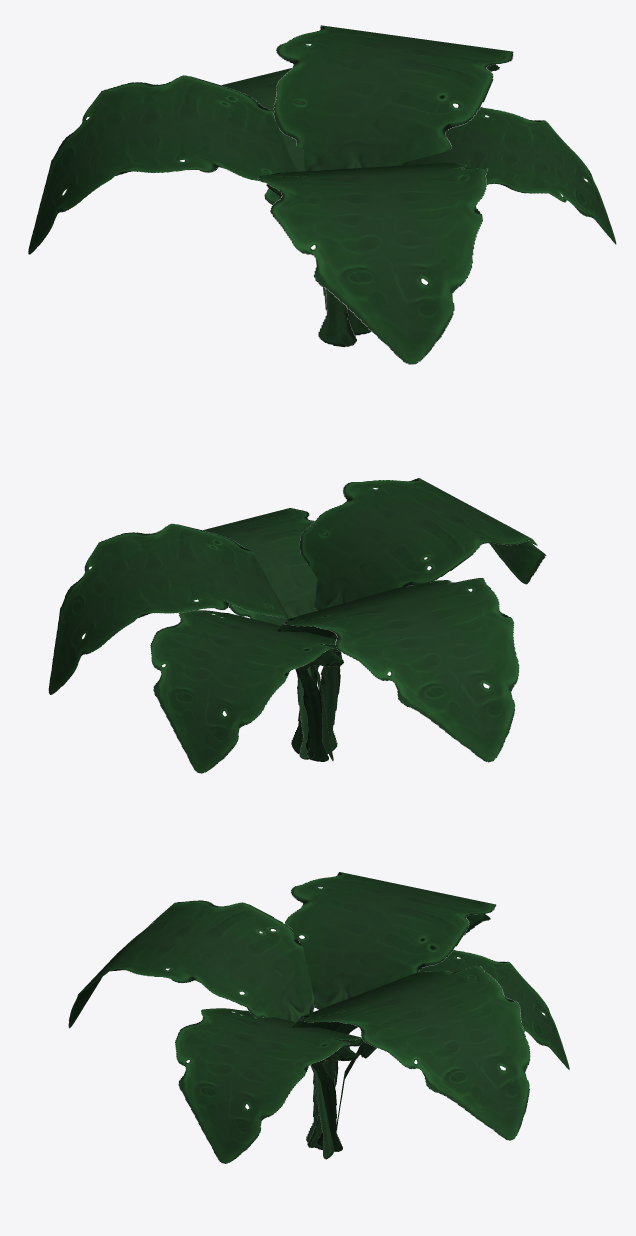
File: BigLeafPlant.fbx
3 renders of one model, top to bottom at view 1: azimuth 30°, elevation 25°; view 2: azimuth 150°, elevation 25°; view 3: azimuth 270°, elevation 25°, orthographic. The views are drawn at different scales.
Visible parts, largest first — view 1: polySurface1; view 2: polySurface1; view 3: polySurface1.
Part boxes in pixels (bbox=[...]): polySurface1: bbox=[28, 25, 616, 364]; polySurface1: bbox=[48, 478, 546, 773]; polySurface1: bbox=[68, 872, 569, 1163].
Size of the model in its own units: 1827 by 658 by 1823.
